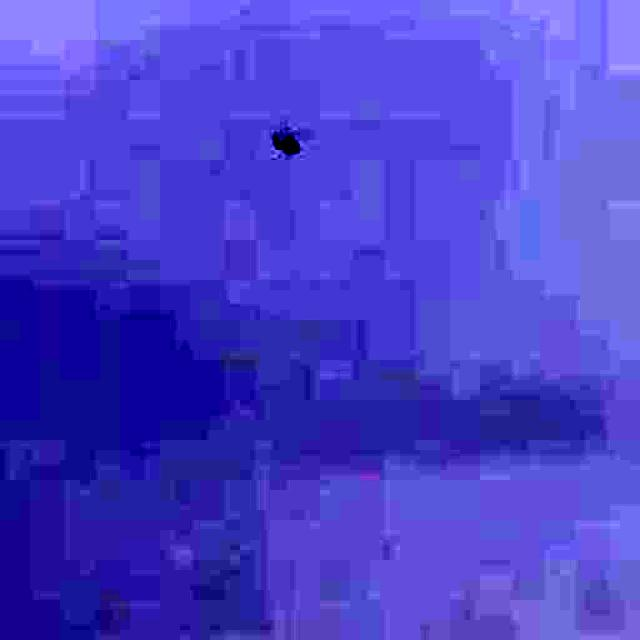drone: (264, 119, 310, 169)
